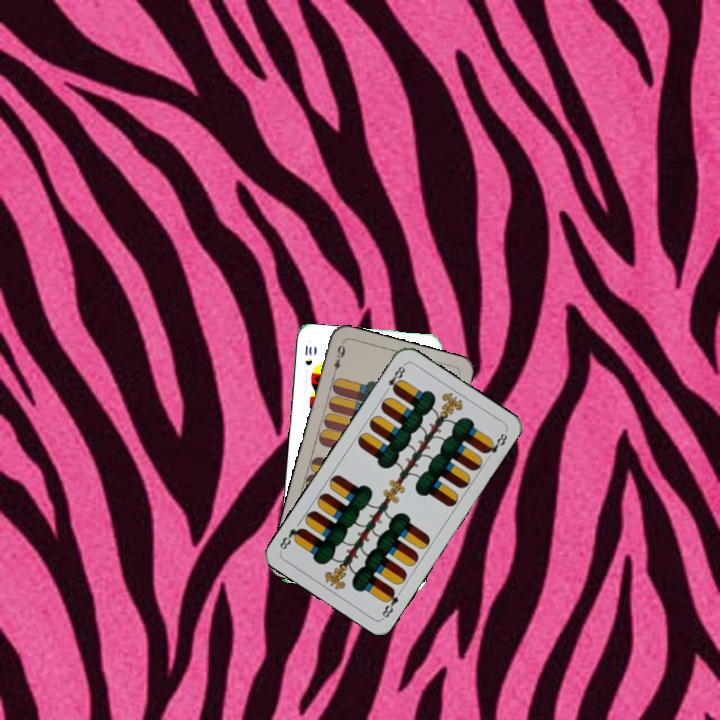E8: (380, 360, 408, 396), (378, 584, 401, 621)
E9: (329, 341, 348, 379)
S10: (301, 341, 315, 368)
